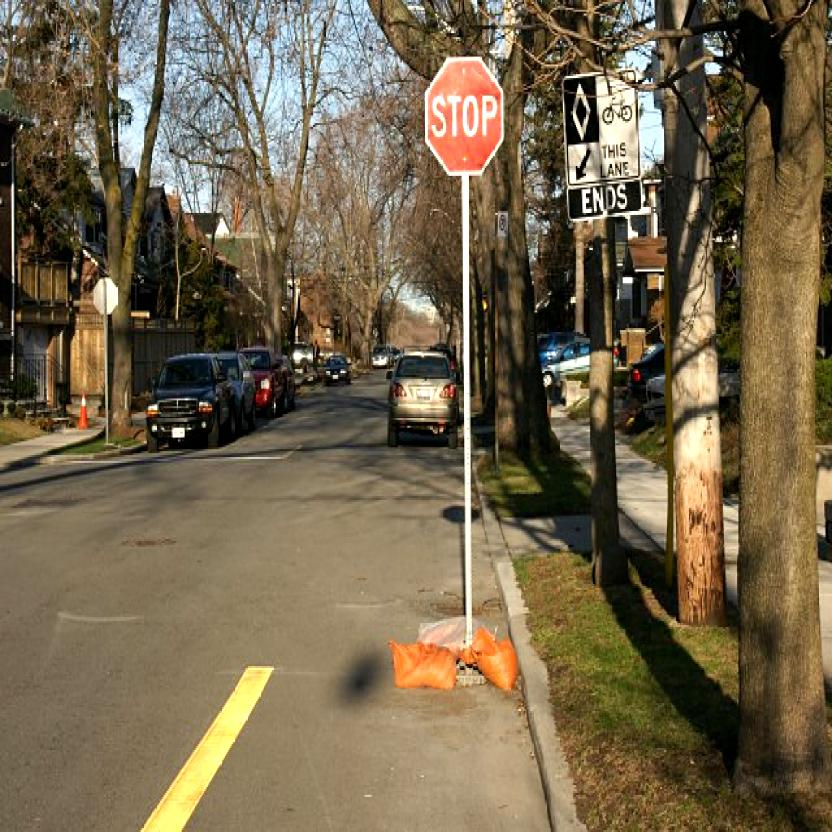Pole: (459, 172, 475, 650), (103, 316, 109, 444)
Sign: (425, 59, 504, 174), (93, 280, 119, 314)
